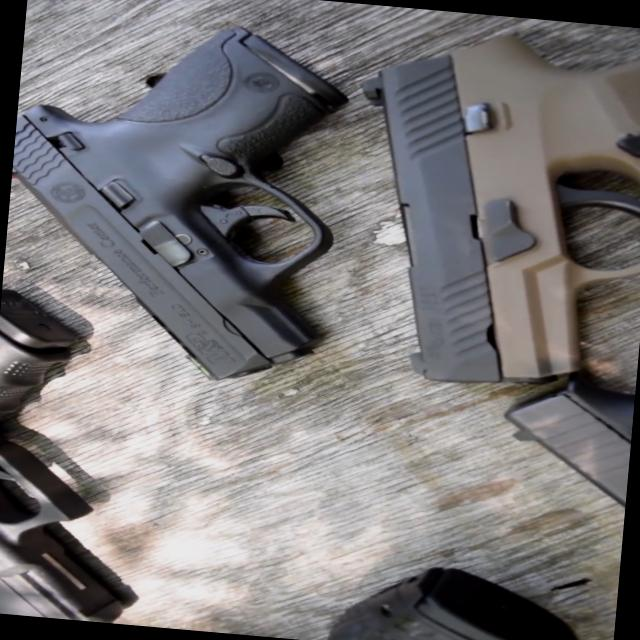handgun: (0, 0, 340, 383), (336, 4, 639, 409)
